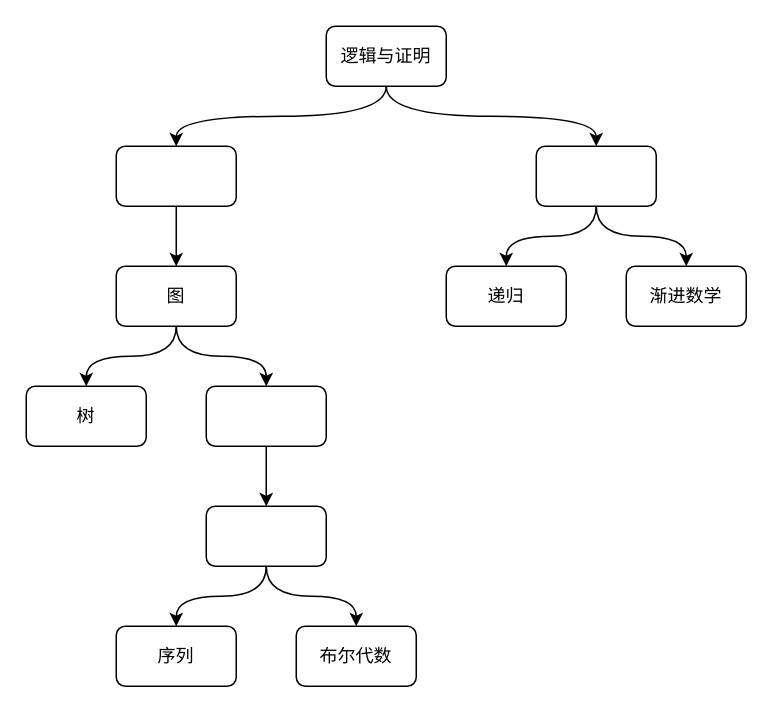
The diagram is 773 pixels wide and 713 high, and some of its shapes have lost their labels. Here are the shapes that lost their labels. From the top down, the box of each, then its label:
(115, 145, 236, 206): 集合
(535, 145, 656, 206): 算法
(205, 385, 326, 446): 关系
(205, 505, 326, 566): 函数
